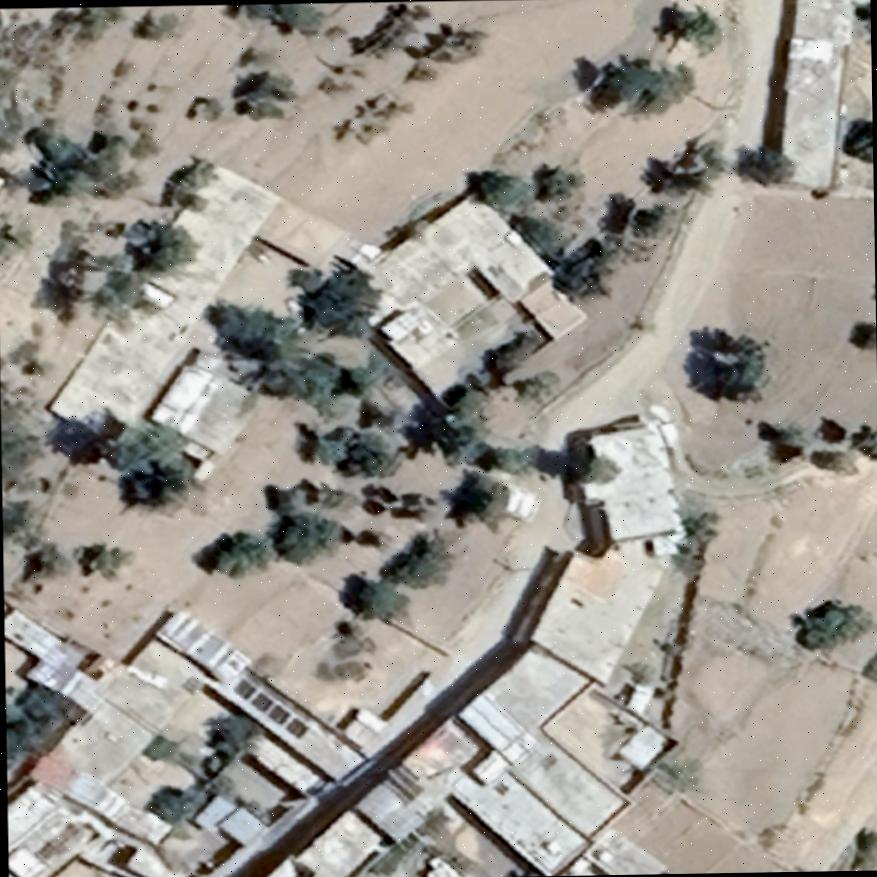Solarpanel: (229, 672, 312, 741)
